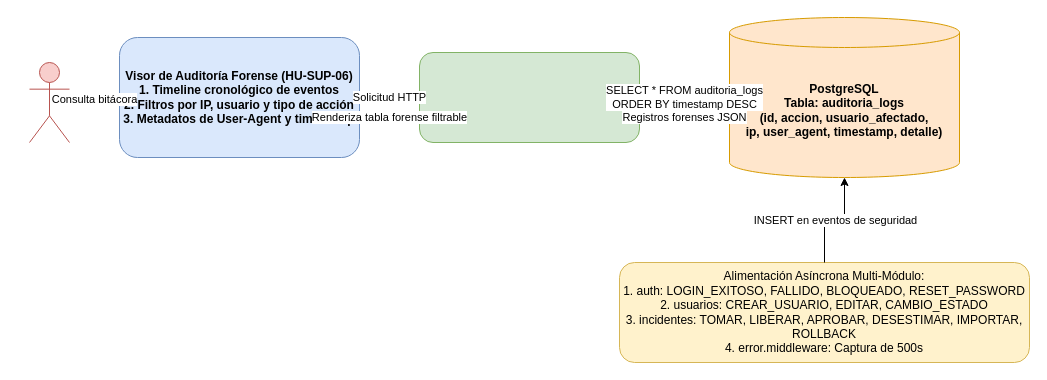
The diagram is 1047 pixels wide and 380 high, and some of its shapes have lost their labels. Each missing label, with the centre of its shape:
GET /api/usuarios/auditoria/logs (RBAC estricto: Superadmin): the point at 529,97
Superadmin: the point at 49,102
